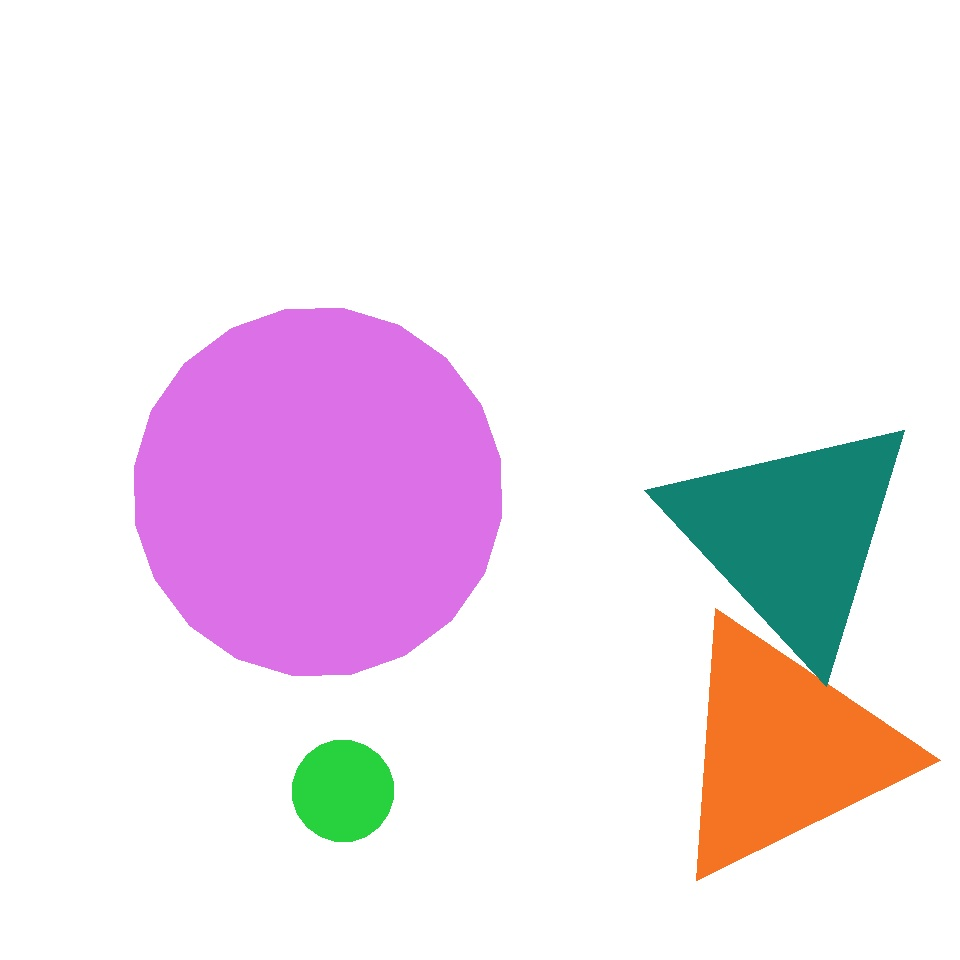circle: (662, 408, 922, 664), (662, 614, 906, 886), (395, 608, 614, 820)
square: (15, 622, 306, 912)
triangle: (134, 308, 501, 676), (292, 740, 394, 842)
